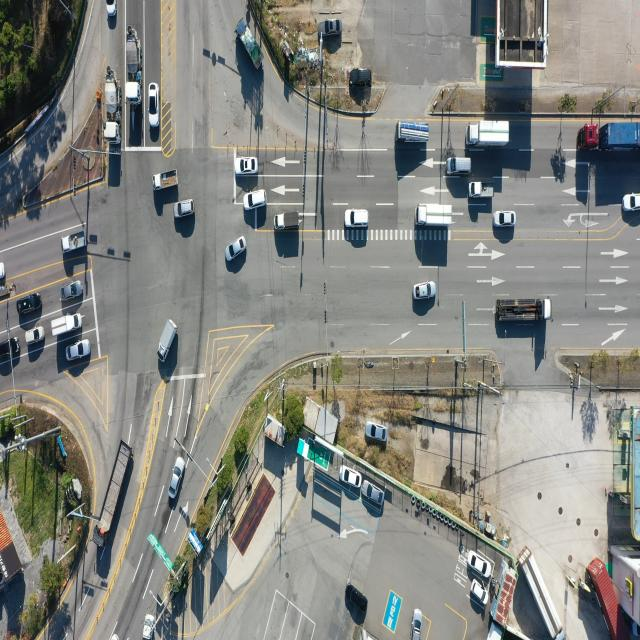car: (344, 584, 369, 618), (168, 456, 186, 501), (467, 552, 490, 580), (226, 235, 247, 264), (0, 337, 21, 364), (17, 292, 42, 314), (66, 340, 90, 362), (340, 465, 362, 488), (472, 580, 490, 608), (447, 157, 472, 177), (148, 82, 159, 126), (61, 280, 84, 301), (363, 483, 384, 506), (346, 209, 370, 229), (364, 422, 387, 442), (242, 192, 265, 212), (235, 158, 259, 176), (174, 200, 195, 220), (350, 67, 372, 86), (414, 282, 436, 300), (492, 211, 514, 227), (26, 326, 45, 344), (412, 609, 423, 640), (323, 19, 341, 37), (623, 194, 640, 213), (106, 0, 117, 17), (0, 263, 6, 284)
large_truck: (577, 121, 639, 153)
medium_truck: (92, 441, 136, 548), (523, 548, 565, 638), (496, 298, 552, 324), (104, 75, 122, 143), (238, 23, 262, 70), (468, 122, 511, 148), (415, 204, 452, 228), (126, 26, 140, 83), (395, 119, 428, 142)
small_truck: (159, 318, 179, 361), (50, 312, 82, 337), (153, 169, 179, 192), (61, 232, 86, 255), (469, 181, 495, 199), (274, 212, 300, 230), (142, 614, 155, 640)
